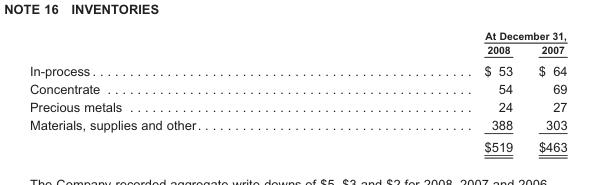table: (28, 28, 566, 153)
table column: (28, 28, 341, 153), (341, 28, 525, 153), (525, 28, 566, 153)
table column header: (28, 28, 566, 58)
table row: (28, 58, 566, 79), (28, 115, 566, 135), (28, 79, 566, 97), (28, 97, 566, 115), (28, 135, 566, 153), (28, 41, 566, 58), (28, 28, 566, 41)
table spanning cell: (341, 28, 566, 41)
